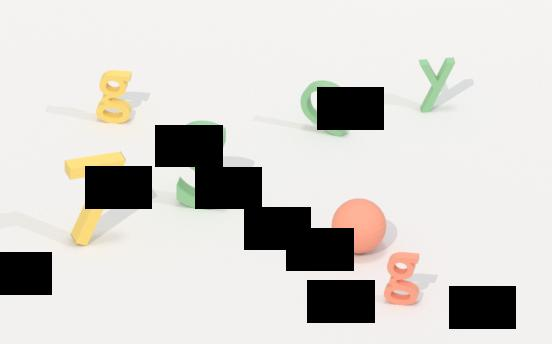7: (64, 151, 126, 250)
Y: (413, 53, 461, 130)
cau: (331, 189, 388, 256)
g: (97, 59, 137, 130), (386, 247, 421, 306)
q: (293, 78, 353, 142)
s: (170, 116, 233, 210)
